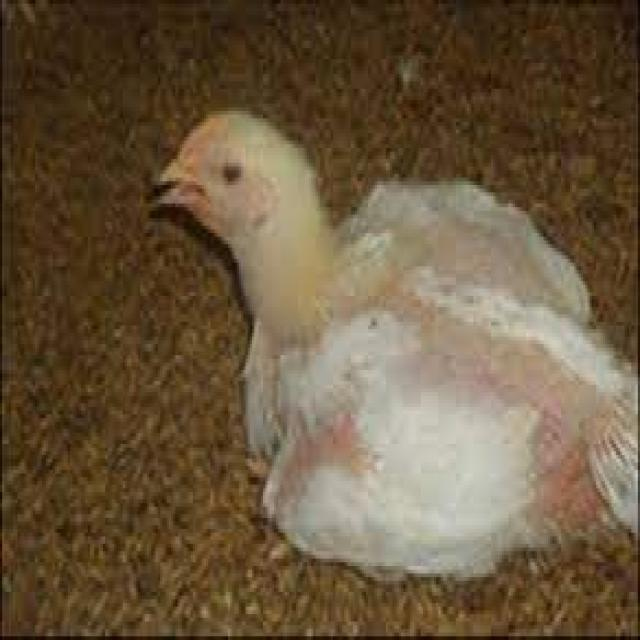poussin: (149, 104, 640, 589)
